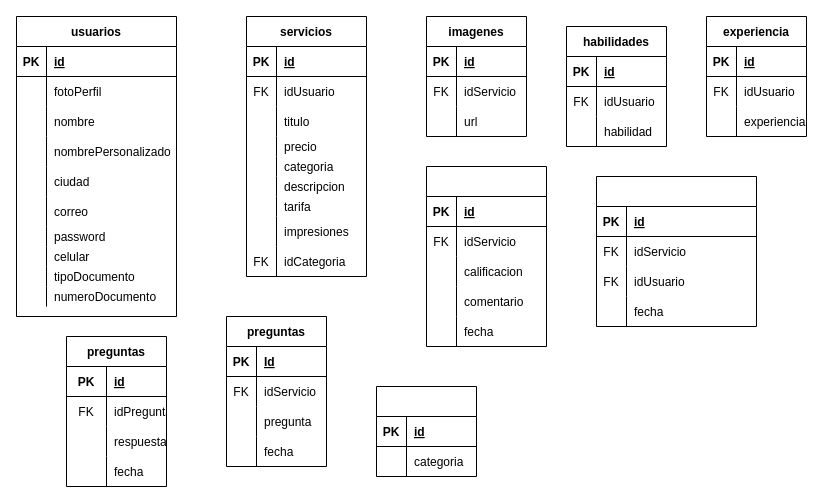
The diagram is 823 pixels wide and 503 high, and some of its shapes have lost their labels. The shapes that lost their labels are listed below. From the top down, each one's box as (x1, y1, x2, y2) in pixels, then its label:
(426, 166, 546, 346): calificaciones
(596, 176, 756, 326): visitasContactoServicios
(376, 386, 476, 476): categorias
